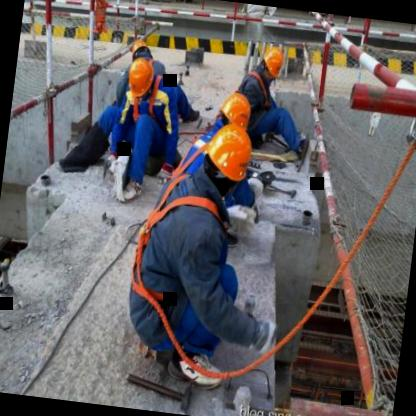helmet: (200, 115, 258, 194), (210, 83, 254, 138), (124, 50, 158, 100), (254, 42, 289, 84), (124, 29, 158, 63)
